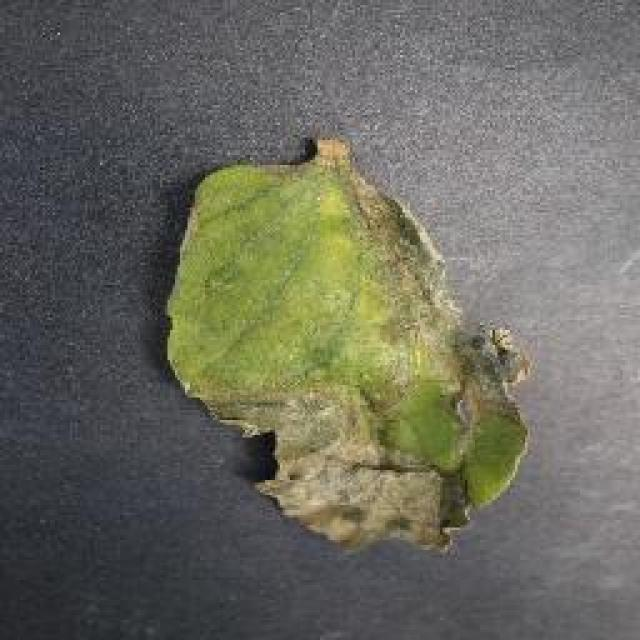Tomato late blight leaf: (163, 145, 537, 555)
